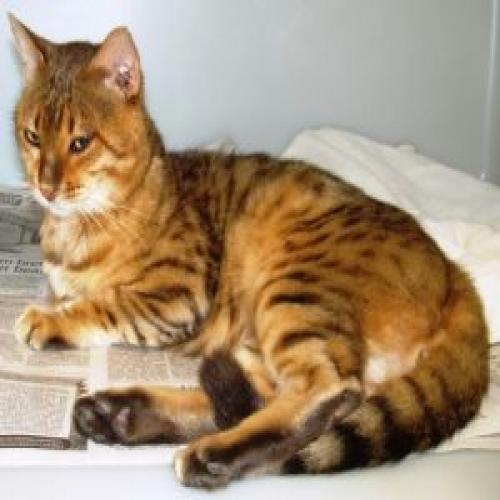bengal: (5, 11, 158, 236)
